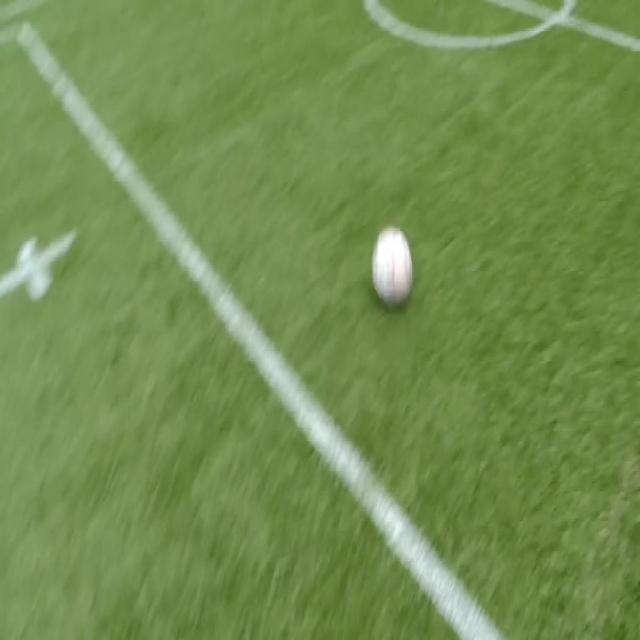ball: (372, 227, 413, 306)
